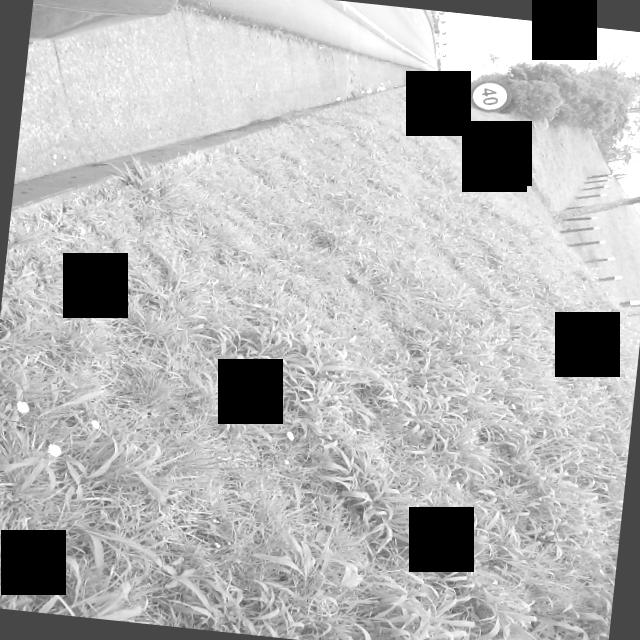DITCH: (11, 0, 447, 258)
